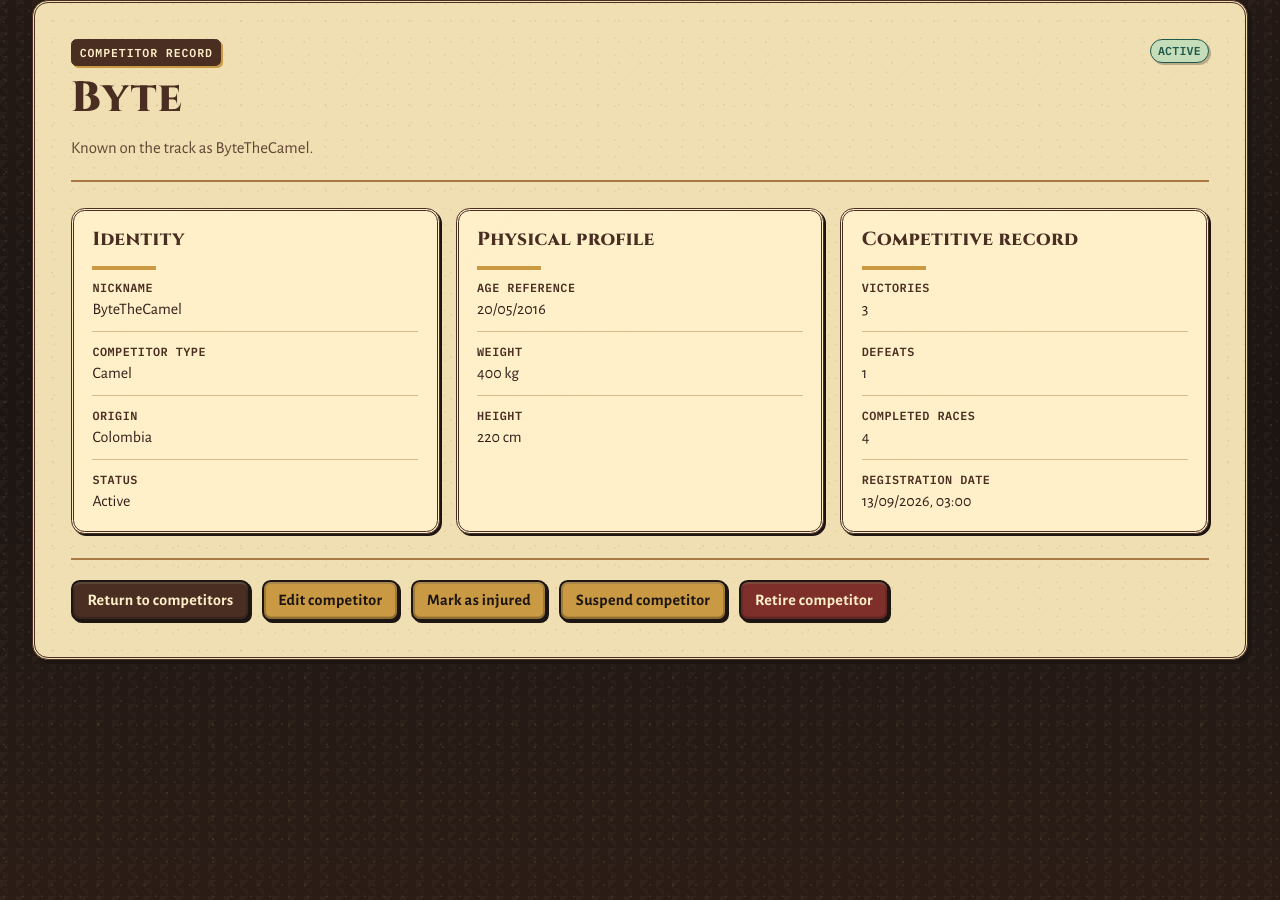
Test case: CompetitorDetailPage › retires competitor after confirmation and hides management actions
Click the button "Retire competitor" at (814, 600), box [739,580,889,621]
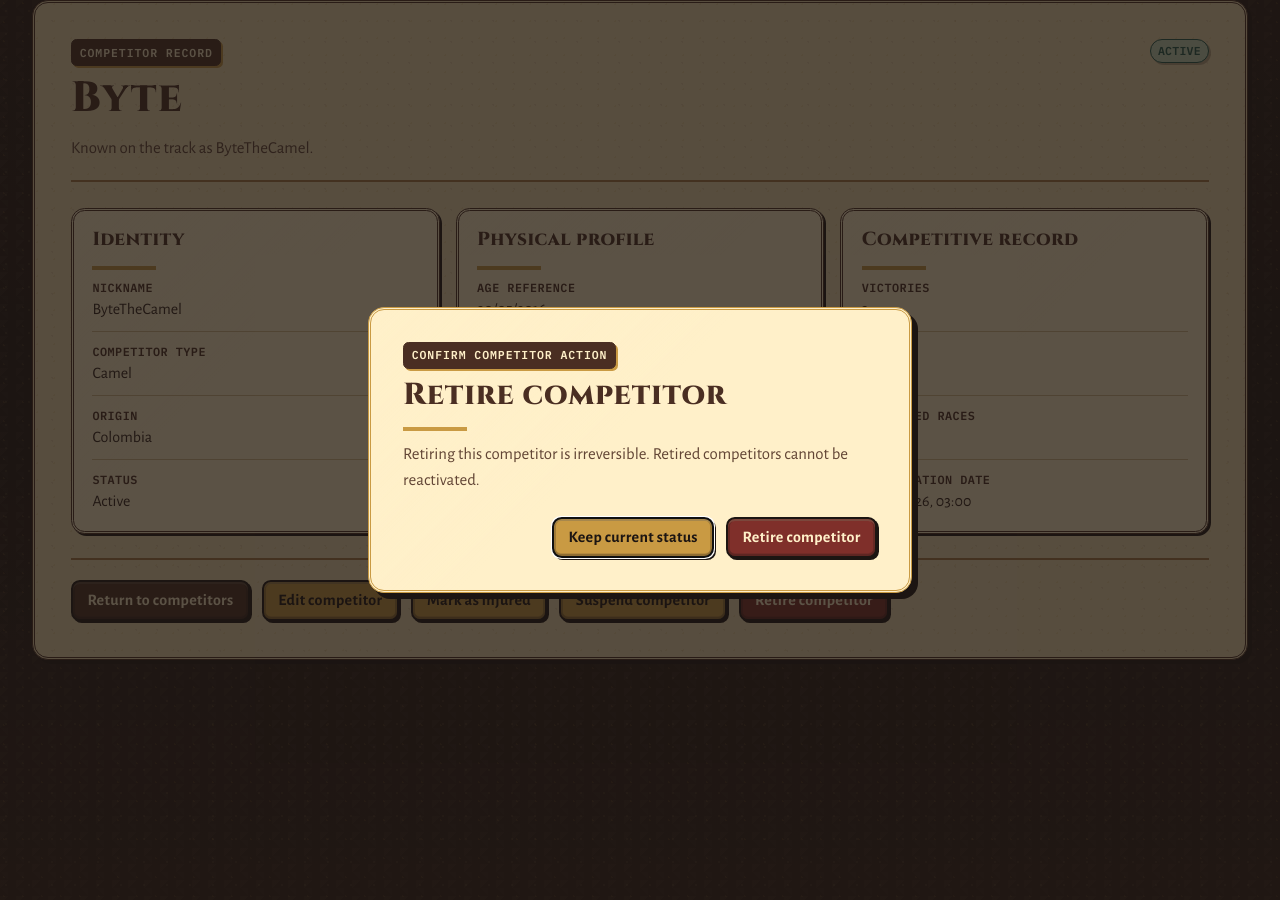
Click the button "Retire competitor" at (802, 538), box [726,517,877,558]
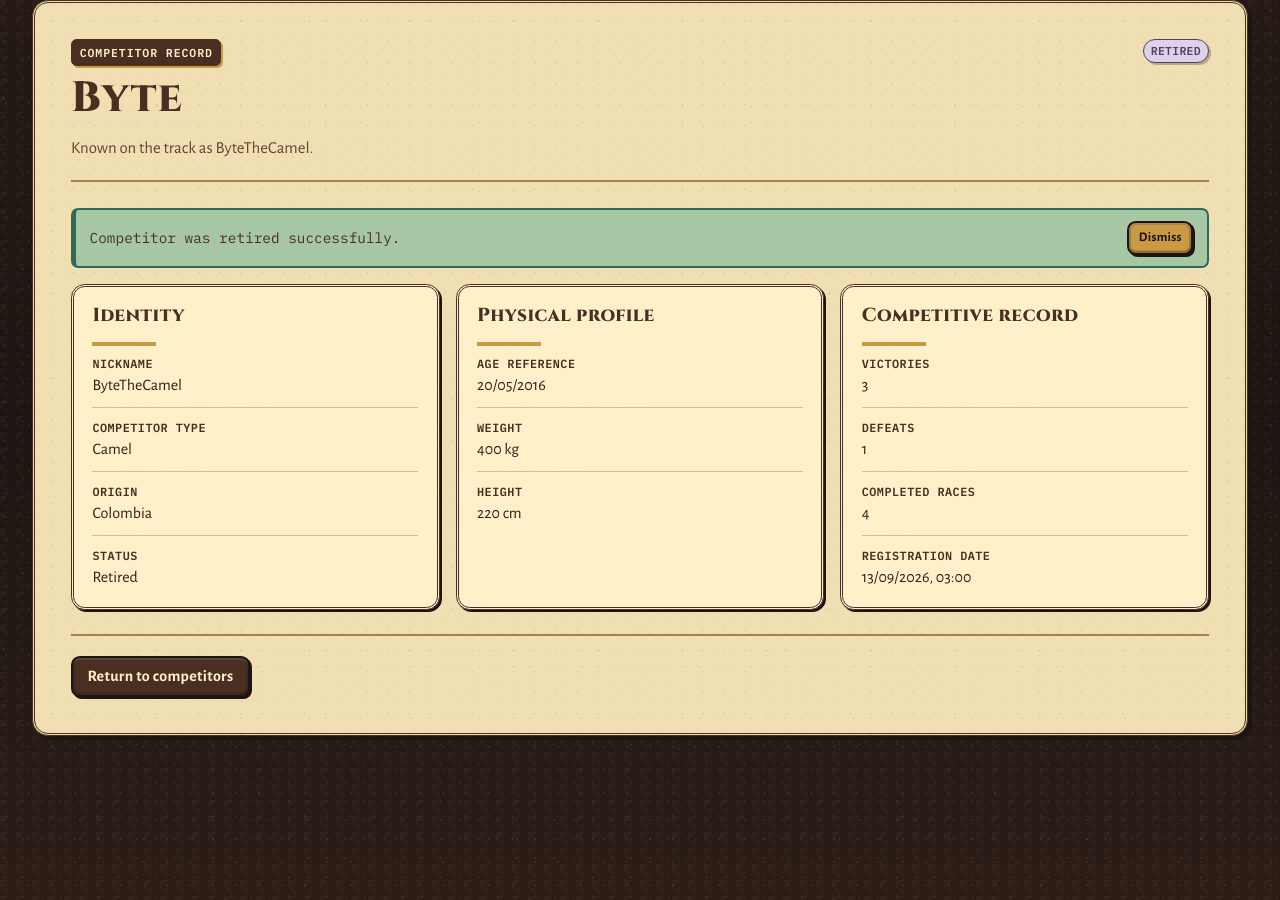
Expected: the text "Competitor was retired successfully." is shown, [90,228,400,247]
Expected: the link "Edit competitor" is gone
Expected: the button "Retire competitor" is gone
